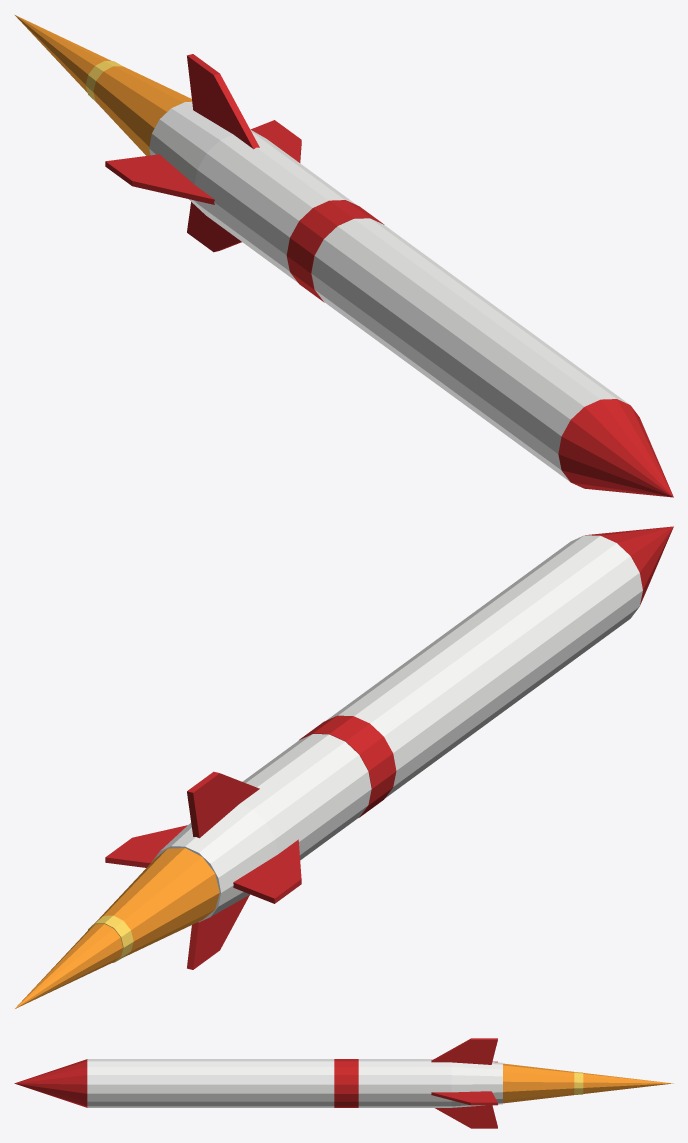
File: rocket.glb
3 views of the same model, one above another, from view 1: azimuth 30°, elevation 25°; view 2: azimuth 150°, elevation 25°; view 3: azimuth 270°, elevation 25° (orthographic). The views are drawn at different scales.
Parts seen in each view (by area): view 1: rocket body; view 2: rocket body; view 3: rocket body.
Part boxes in pixels (left/top/right/bottom): rocket body: left=15, top=15, right=673, bottom=497; rocket body: left=15, top=526, right=673, bottom=1008; rocket body: left=14, top=1038, right=673, bottom=1128.
Size of the model in its own units: 4 by 4 by 27.
